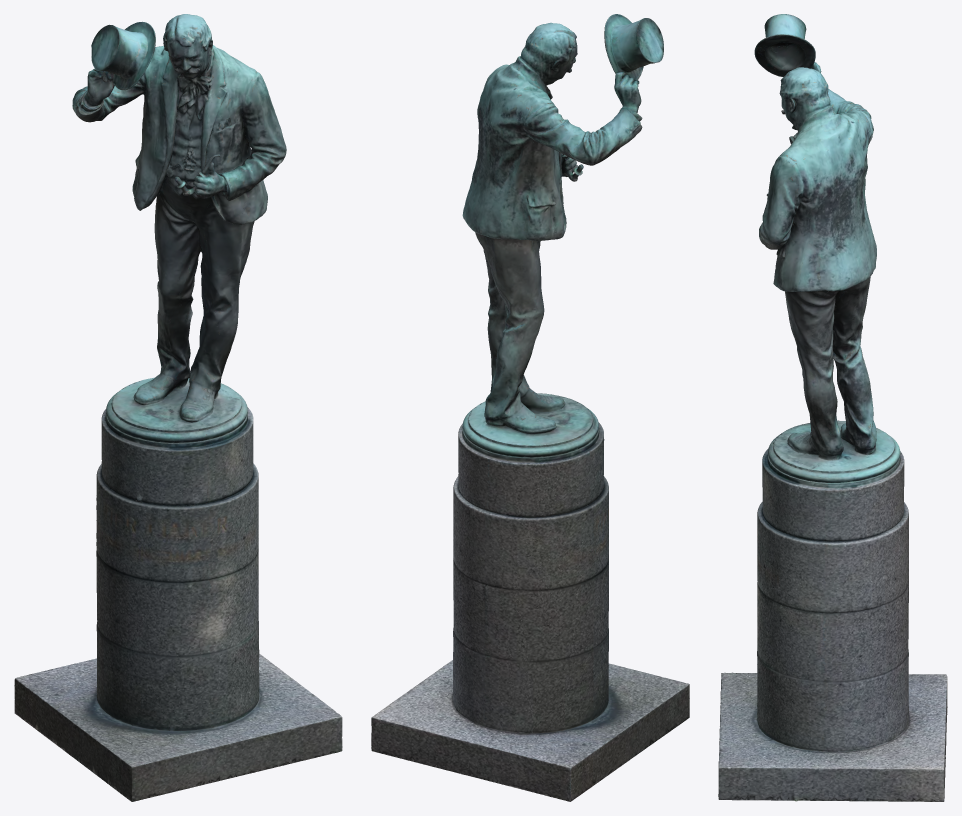
Rendered from preview.glb.
3 renders of one model, left to right at view 1: azimuth 30°, elevation 25°; view 2: azimuth 150°, elevation 25°; view 3: azimuth 270°, elevation 25°, orthographic. The views are drawn at different scales.
Visible parts, largest first — view 1: Object_2; view 2: Object_2; view 3: Object_2.
Boxes of the visible parts, x1=… form: Object_2: x1=14, y1=14, x2=342, y2=801; Object_2: x1=371, y1=14, x2=689, y2=801; Object_2: x1=718, y1=14, x2=947, y2=801.
Size of the model in its own units: 6 by 19.88 by 5.9.
Materials: 1 (1 with a texture image).
